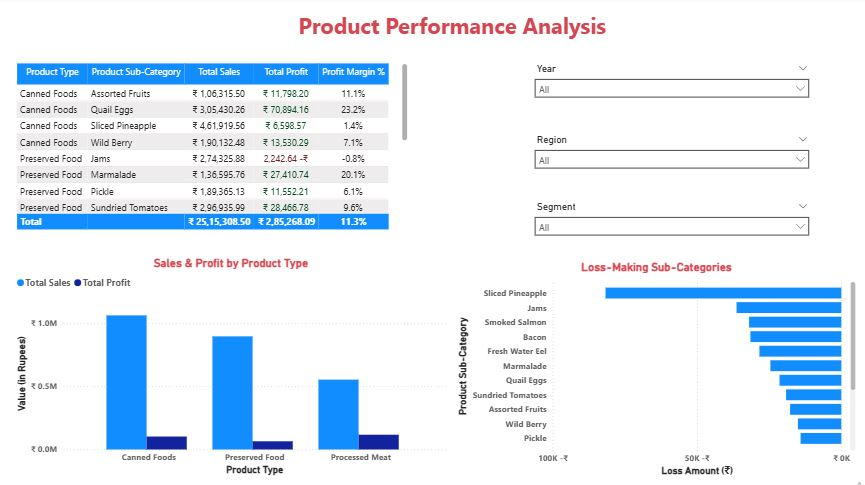

The dashboard page shown, as its layout file describes it:
{"tool":"powerbi","page":{"name":"Products","canvas":[1280,720],"ordinal":1},"visuals":[{"type":"clusteredColumnChart","title":"Sales & Profit by Product Type","fields":{"Category":["Dim_Product.Product Type"],"Y":["Measure.Total Sales","Measure.Total Profit"]},"box":[25,380.6,640.7,327.7],"z":0},{"type":"clusteredBarChart","title":"Loss-Making Sub-Categories","fields":{"Category":["Dim_Product.Product Sub-Category"],"Y":["Measure.Total Profit"]},"box":[673,386.4,595.1,321.8],"z":1000},{"type":"tableEx","fields":{"Values":["Dim_Product.Product Type","Dim_Product.Product Sub-Category","Measure.Total Sales","Measure.Total Profit","Measure.Profit Margin %"]},"box":[25,92.6,584.8,254.2],"z":2000},{"type":"slicer","fields":{"Values":["Dim_Date.Year"]},"box":[781.7,92.6,423.2,76.4],"z":3000},{"type":"slicer","fields":{"Values":["Dim_Geography.Region"]},"box":[781.7,196.9,423.2,74.9],"z":4000},{"type":"slicer","fields":{"Values":["Dim_Customer.Segment"]},"box":[781.7,295.3,423.2,76.4],"z":5000},{"type":"textbox","box":[42.7,15.4,1189.4,58.1],"z":6000}]}

Visuals, with their boxes in screenshot pixels (x1, y1, x2, y2), scaled from the page's 1280x720 canvas onto the 865x485 screenshot:
"Sales & Profit by Product Type" clusteredColumnChart: (left=17, top=256, right=450, bottom=477)
"Loss-Making Sub-Categories" clusteredBarChart: (left=455, top=260, right=857, bottom=477)
tableEx - Dim_Product.Product Type x Dim_Product.Product Sub-Category: (left=17, top=62, right=412, bottom=234)
slicer - Dim_Date.Year: (left=528, top=62, right=814, bottom=114)
slicer - Dim_Geography.Region: (left=528, top=133, right=814, bottom=183)
slicer - Dim_Customer.Segment: (left=528, top=199, right=814, bottom=250)
textbox: (left=29, top=10, right=833, bottom=50)
